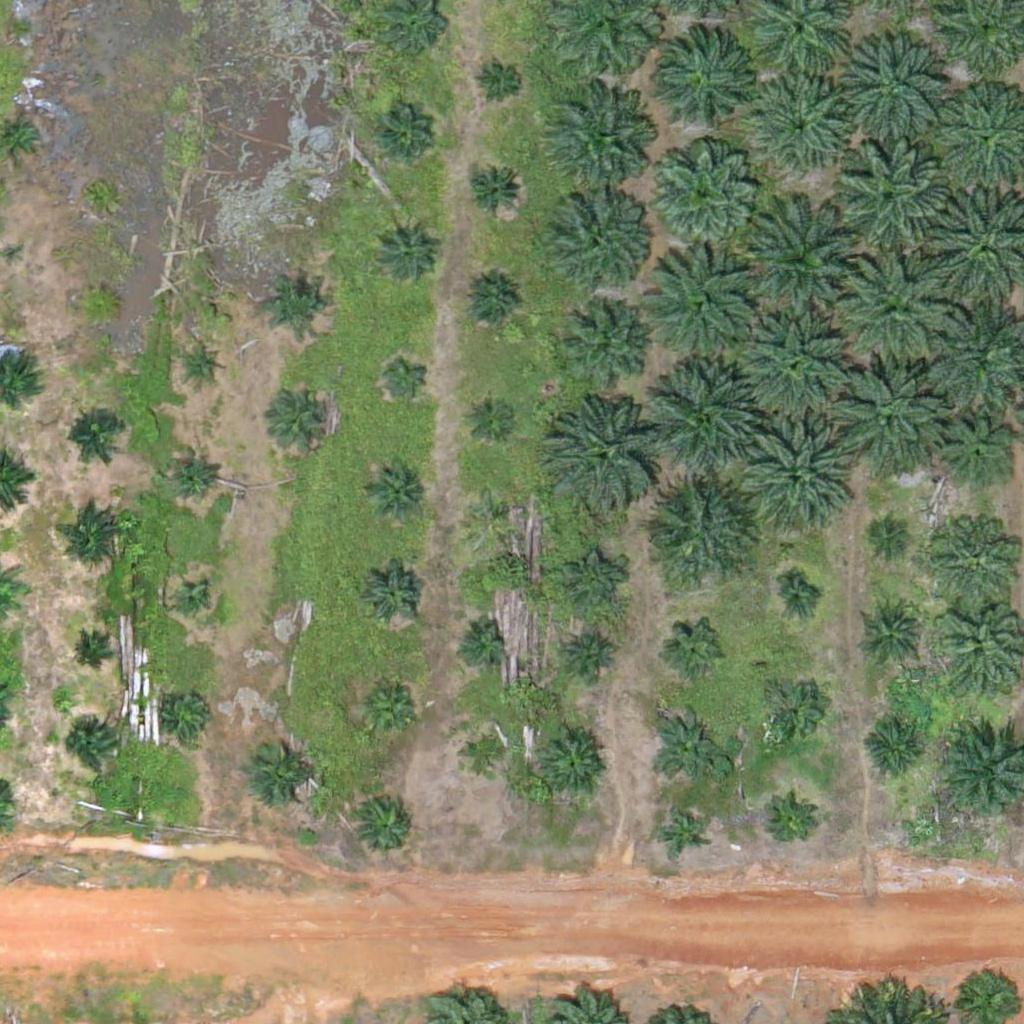Kelapa_Sawit: (743, 199, 868, 325), (541, 393, 666, 519), (738, 307, 851, 421), (648, 252, 761, 366), (646, 137, 759, 251), (736, 416, 849, 529), (649, 358, 762, 471), (640, 473, 753, 586), (829, 353, 941, 467), (543, 88, 655, 202), (840, 251, 952, 364), (835, 141, 947, 254), (844, 34, 944, 135), (549, 186, 649, 287), (753, 76, 853, 176), (657, 30, 757, 130), (929, 514, 1017, 602), (559, 303, 647, 391), (245, 735, 320, 811), (935, 417, 1010, 493), (534, 725, 609, 800), (650, 707, 725, 782), (275, 386, 338, 449), (264, 270, 327, 333), (373, 109, 436, 172), (362, 458, 425, 521), (362, 563, 425, 626), (355, 795, 418, 858), (863, 722, 926, 785), (758, 677, 821, 740), (355, 677, 418, 740), (463, 159, 526, 222), (65, 504, 127, 567), (64, 404, 126, 467), (374, 220, 436, 283), (562, 550, 624, 613), (666, 619, 728, 682), (460, 271, 522, 334), (764, 799, 814, 850), (568, 628, 618, 679), (657, 808, 707, 859), (466, 388, 516, 439), (465, 485, 515, 536), (455, 614, 505, 665), (381, 350, 431, 401), (65, 722, 115, 772), (165, 689, 215, 739), (866, 607, 916, 657), (459, 730, 509, 780), (167, 448, 217, 498), (475, 58, 525, 108), (874, 518, 912, 556), (184, 346, 222, 384), (174, 584, 212, 622), (81, 286, 119, 324), (779, 580, 816, 618), (69, 635, 106, 673), (1, 240, 26, 265)
